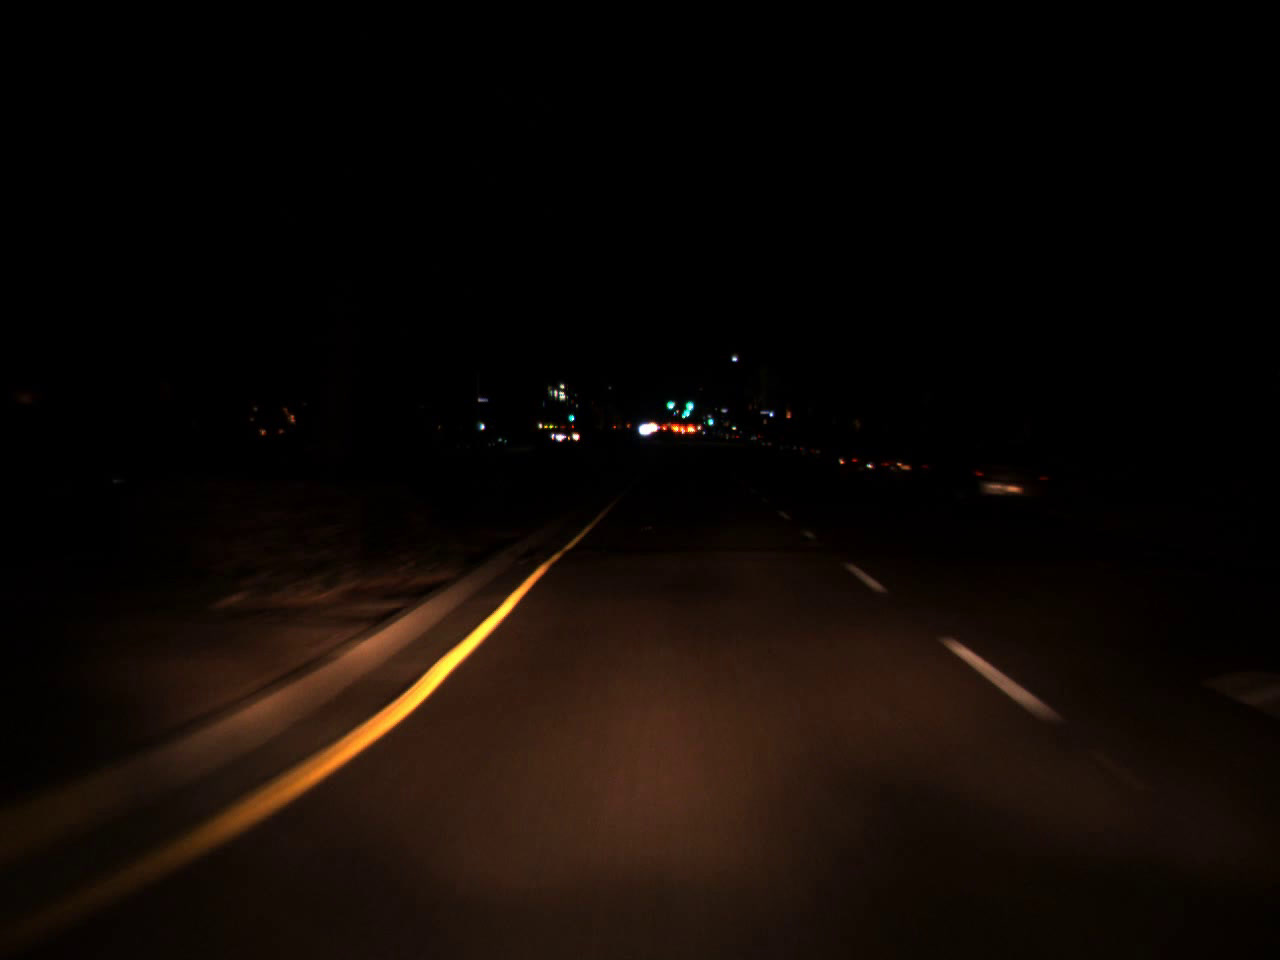go: (681, 389, 695, 413), (664, 391, 674, 412), (705, 414, 714, 426), (568, 408, 575, 423)
